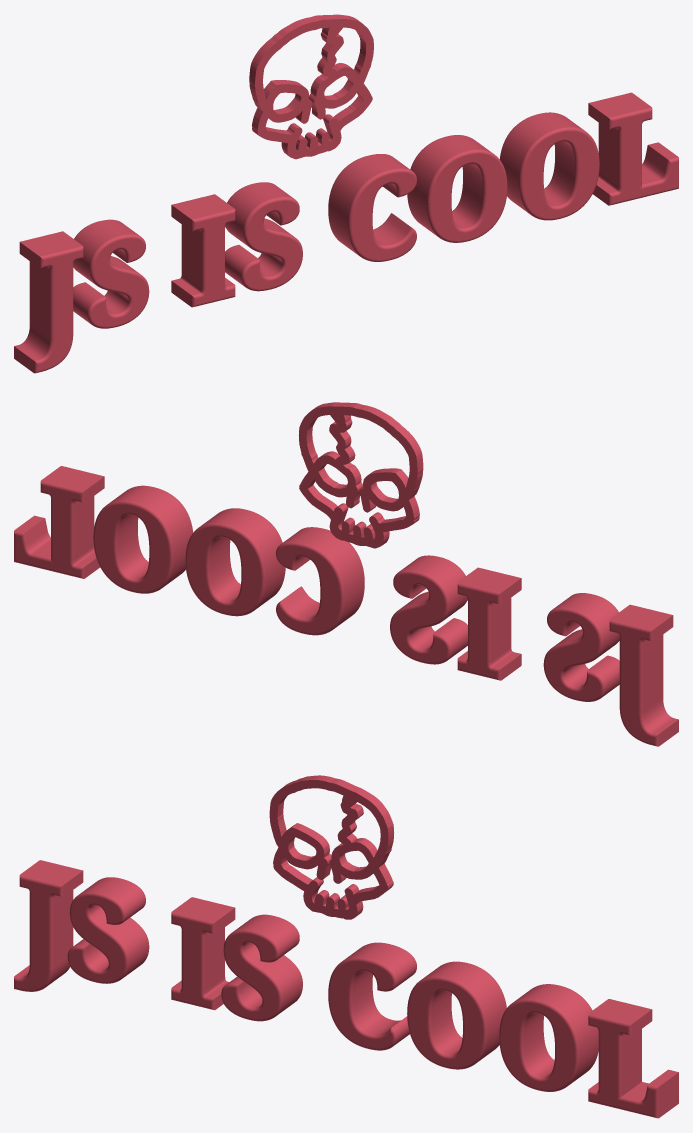
The model's file is Glorious_Esboo-Bojo.glb.
The picture shows the model from 3 angles, top to bottom: view 1: azimuth 30°, elevation 25°; view 2: azimuth 150°, elevation 25°; view 3: azimuth 330°, elevation 25°; orthographic projection.
Parts seen in each view (by area): view 1: Mesh_Mesh_head_geo.001_lambert2SG.001; view 2: Mesh_Mesh_head_geo.001_lambert2SG.001; view 3: Mesh_Mesh_head_geo.001_lambert2SG.001.
Boxes of the visible parts, x1,y1,x2,y2 form: Mesh_Mesh_head_geo.001_lambert2SG.001: [14, 14, 678, 373]; Mesh_Mesh_head_geo.001_lambert2SG.001: [14, 402, 678, 746]; Mesh_Mesh_head_geo.001_lambert2SG.001: [14, 775, 678, 1118].
Size of the model in its own units: 163 by 64.57 by 11.07.
